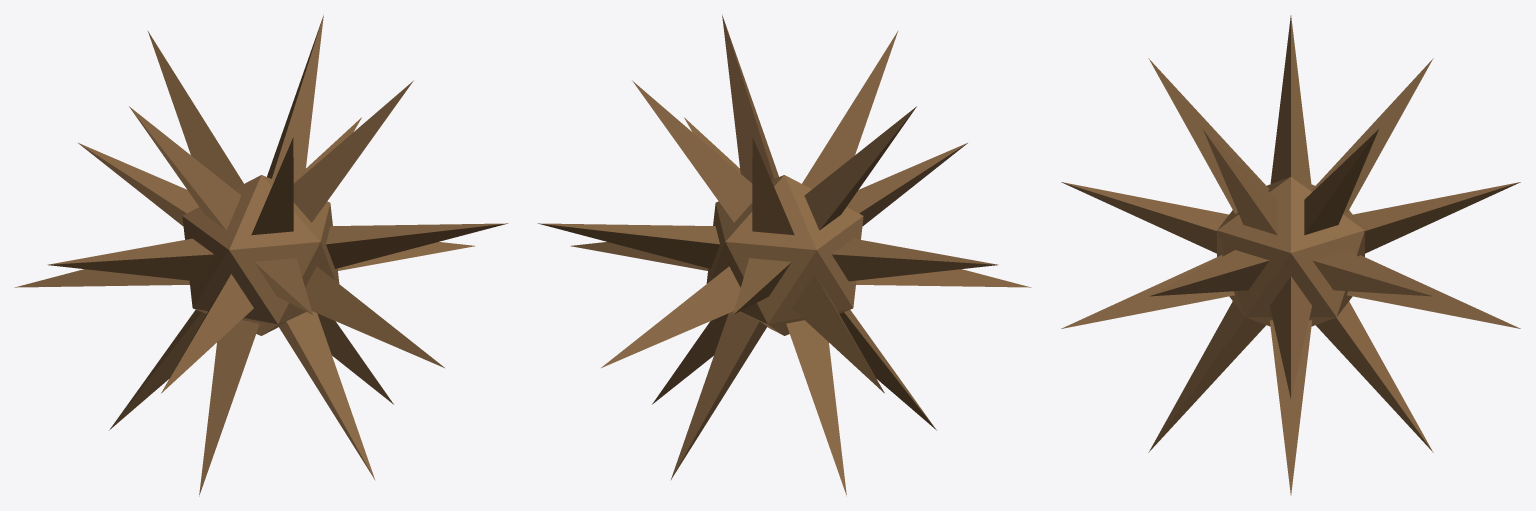
File: LPWarPack_SeaMine.fbx
3 views of the same model, side by side, from view 1: azimuth 30°, elevation 25°; view 2: azimuth 150°, elevation 25°; view 3: azimuth 270°, elevation 25° (orthographic). The views are drawn at different scales.
Parts seen in each view (by area): view 1: SeaMine; view 2: SeaMine; view 3: SeaMine.
Part boxes in pixels (x1,y1,x2,y2): SeaMine: (14, 14, 508, 496); SeaMine: (537, 14, 1031, 496); SeaMine: (1061, 15, 1520, 495).
Size of the model in its own units: 258 by 208 by 245.
